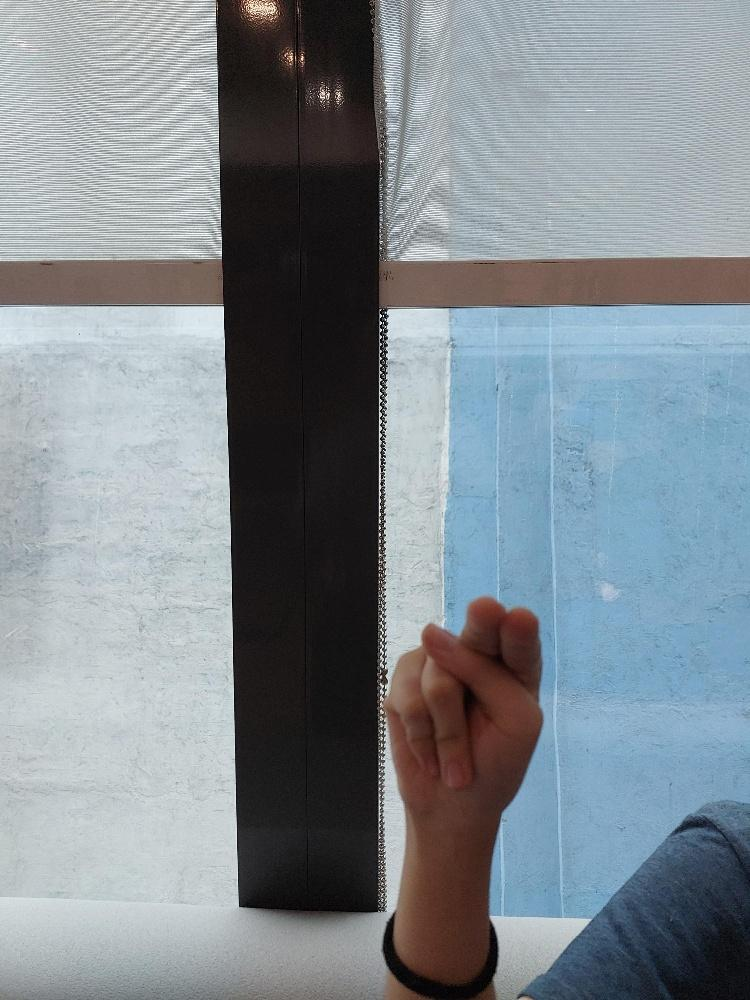n: (383, 595, 545, 813)
